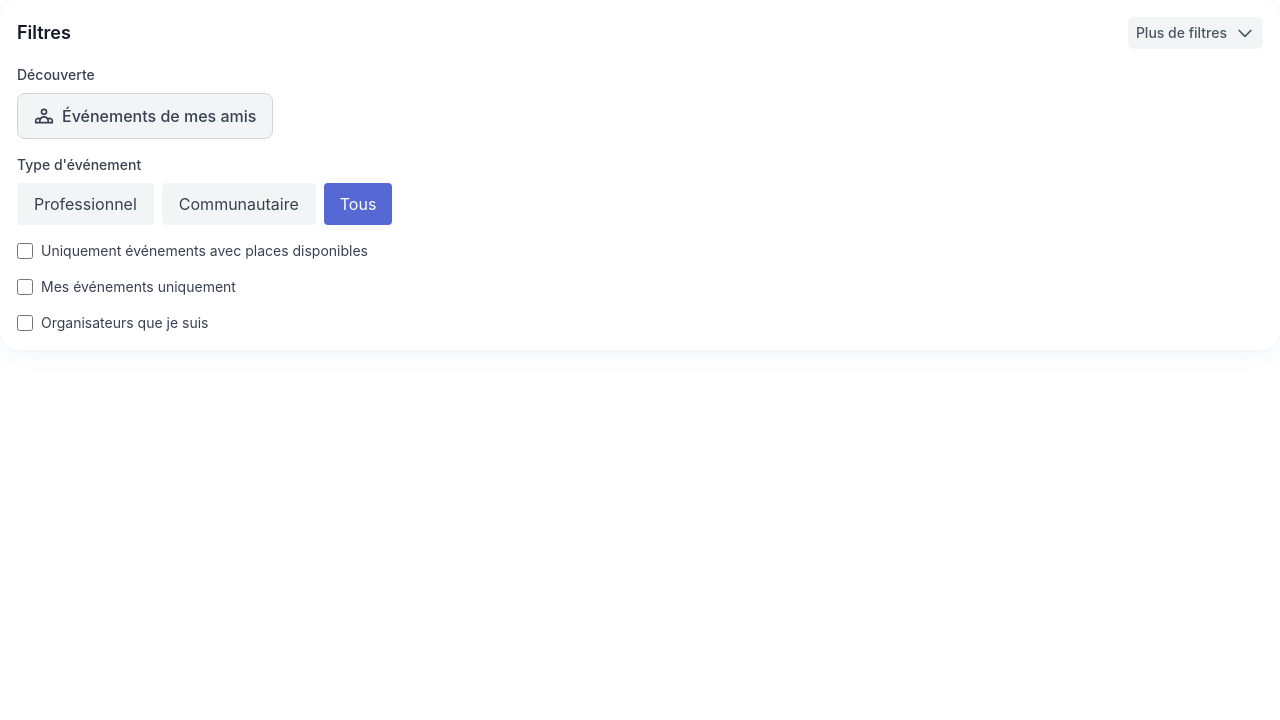
Scenario: AdvancedFilters - basic filters › expands to show categories, price ranges and date range
Step 1. Click the button with aria-label "Afficher plus de filtres" → (44, 32), box [17,17,1263,49]
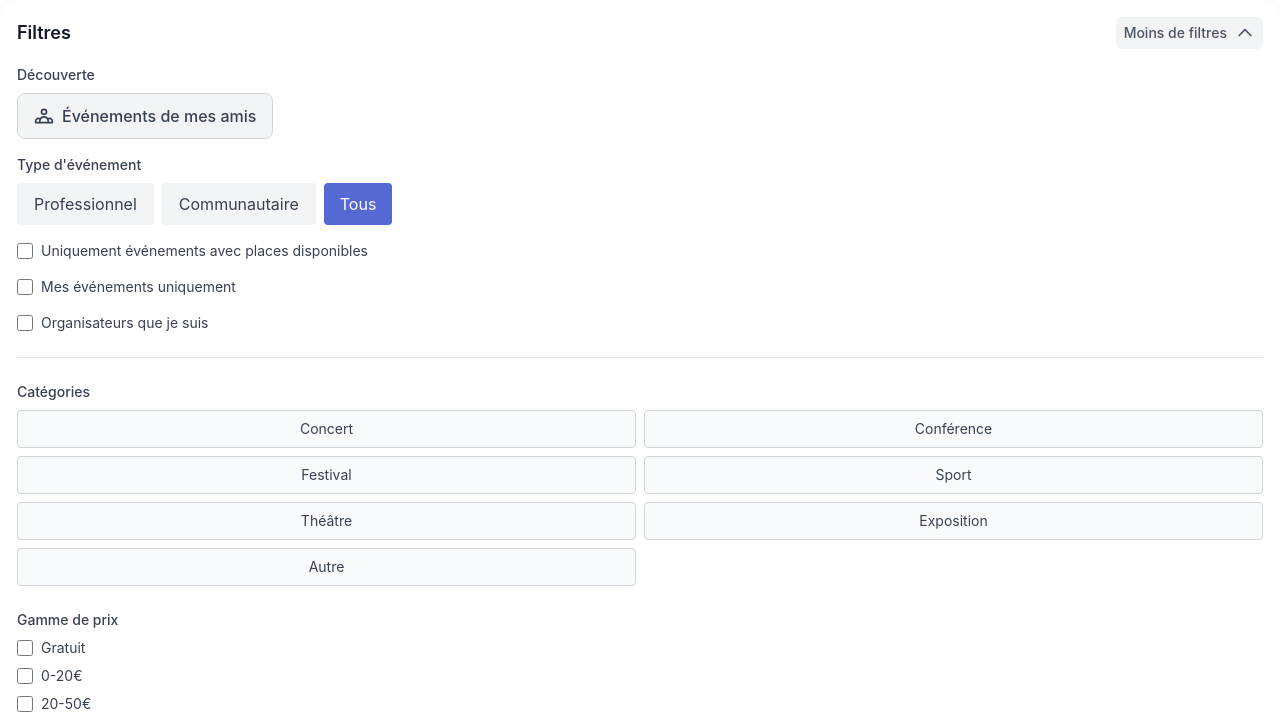
Check: the text "Catégories" is shown, box [17,383,90,400]
Check: the text "Gamme de prix" is shown, box [17,611,118,628]
Check: the button with aria-label "Réduire les filtres avancés" is expanded, box [17,17,1263,49]
